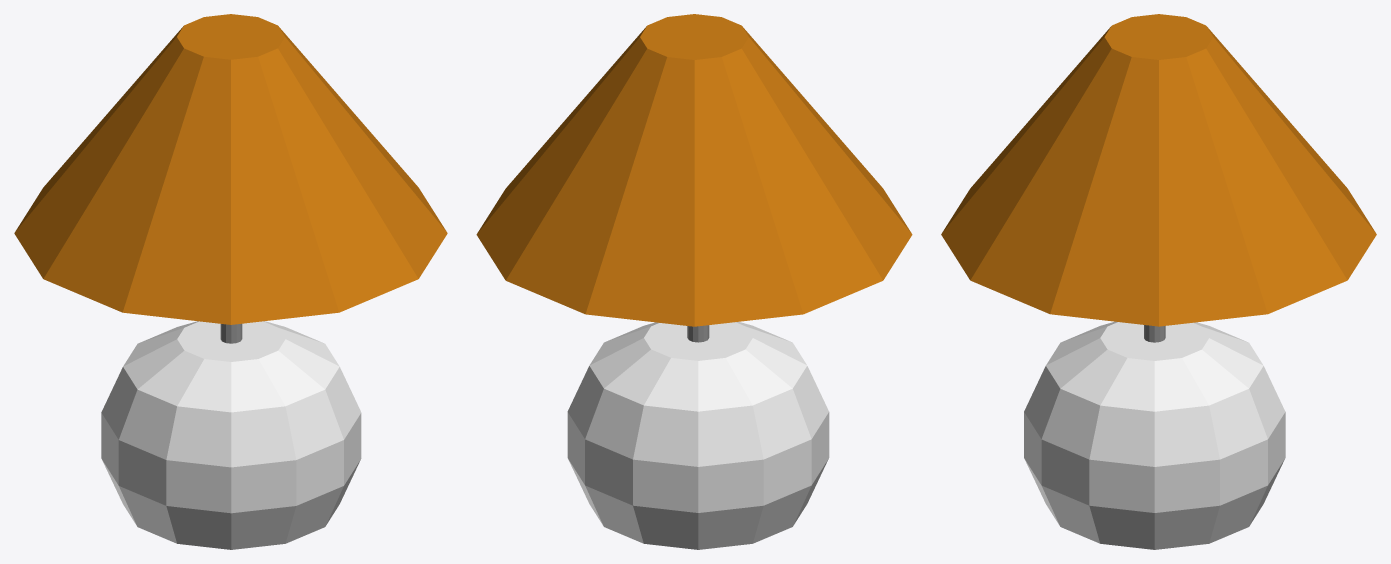
The model's file is Lamp_table.fbx.
The picture shows the model from 3 angles, left to right: view 1: azimuth 30°, elevation 25°; view 2: azimuth 150°, elevation 25°; view 3: azimuth 270°, elevation 25°; orthographic projection.
Visible parts, largest first — view 1: Cone, Cylinder_4; view 2: Cone, Cylinder_4; view 3: Cone, Cylinder_4.
Part boxes in pixels (x1,y1,x2,y2): Cone: (14, 14, 447, 324); Cylinder_4: (101, 321, 361, 549); Cone: (476, 14, 912, 326); Cylinder_4: (567, 321, 829, 549); Cone: (941, 14, 1376, 326); Cylinder_4: (1024, 321, 1285, 549).
Bounding box in the file's own units: 200 × 237 × 200.
